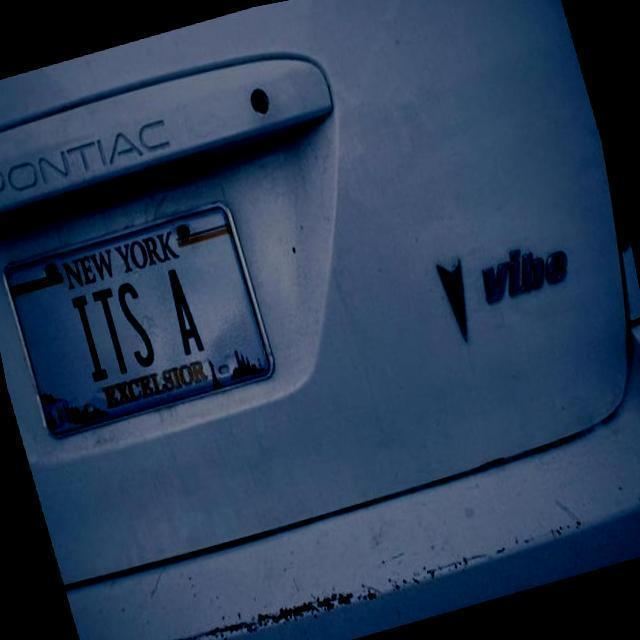license-plate: (3, 168, 291, 420)
